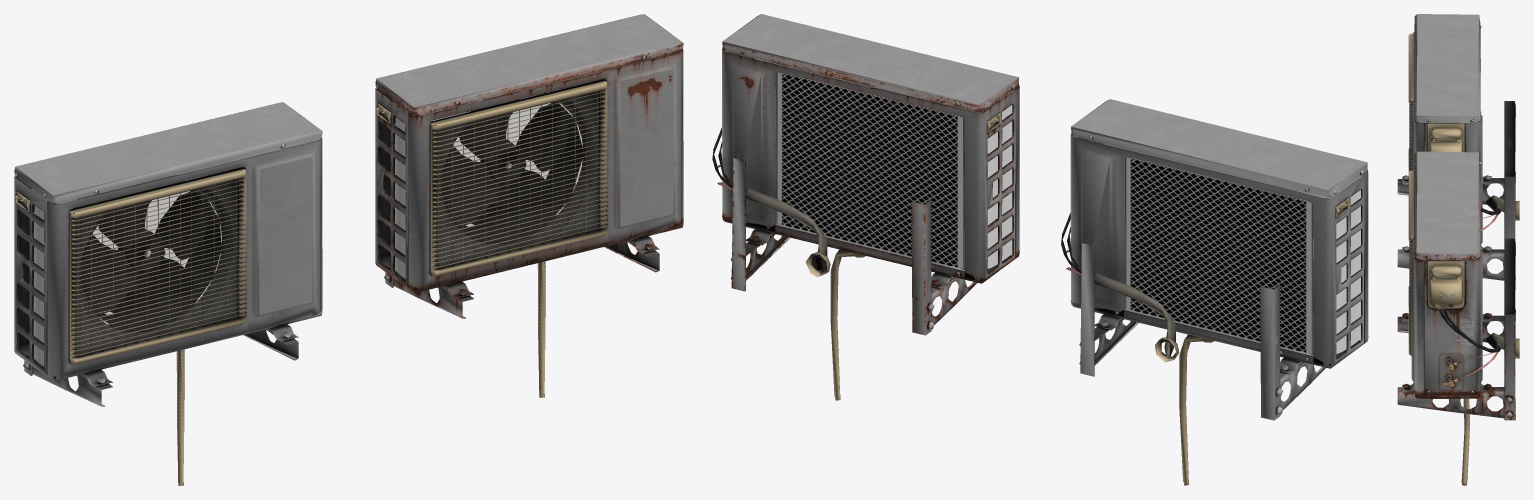
The model's file is exterior_aircon_unit.glb.
The picture shows the model from 3 angles, left to right: view 1: azimuth 30°, elevation 25°; view 2: azimuth 150°, elevation 25°; view 3: azimuth 270°, elevation 25°; orthographic projection. The views are drawn at different scales.
Visible parts, largest first — view 1: exterior_aircon_unit; view 2: exterior_aircon_unit; view 3: exterior_aircon_unit.
Boxes of the visible parts, x1=… form: exterior_aircon_unit: x1=14, y1=14, x2=683, y2=485; exterior_aircon_unit: x1=712, y1=14, x2=1368, y2=485; exterior_aircon_unit: x1=1397, y1=14, x2=1519, y2=485.
Bounding box in the file's own units: 1.8 × 0.9282 × 0.3748.
Materials: 4 (4 with a texture image).
